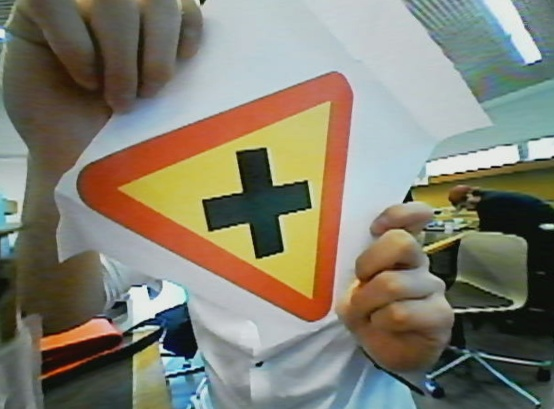junction: (85, 74, 341, 337)
